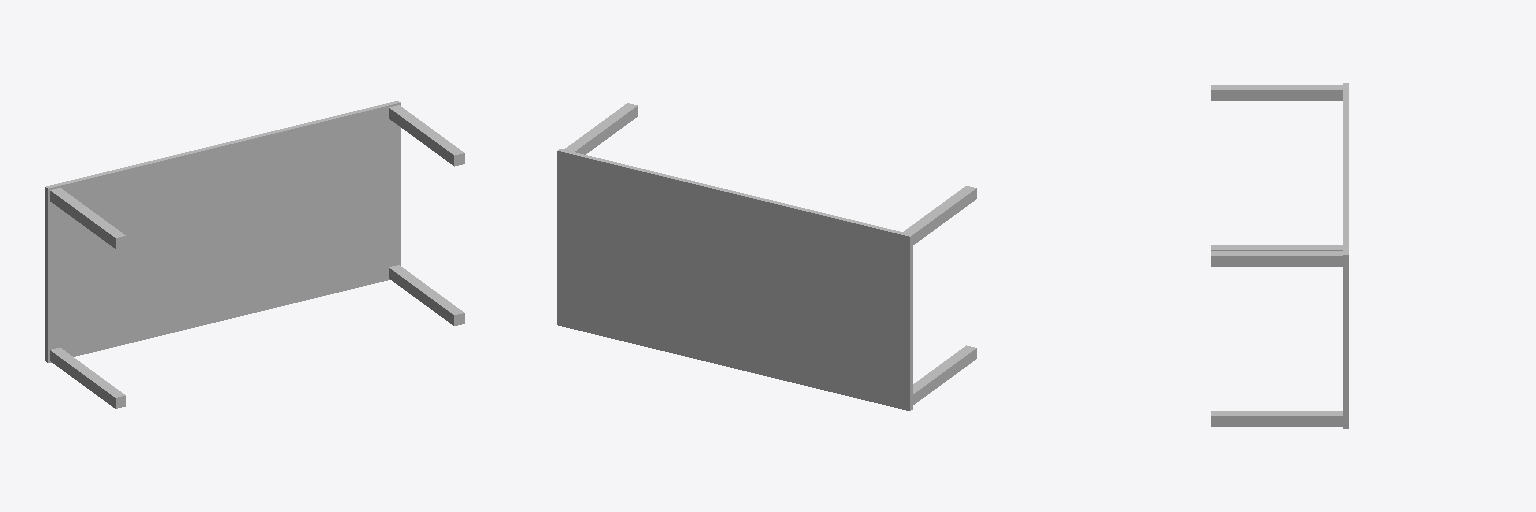
Rendered from random_table91.obj.
3 renders of one model, left to right at view 1: azimuth 30°, elevation 25°; view 2: azimuth 150°, elevation 25°; view 3: azimuth 270°, elevation 25°, orthographic.
Parts seen in each view (by area): view 1: Table_Cube.1520, TableLeg0_Cube.1521, TableLeg3_Cube.1524, TableLeg1_Cube.1522, TableLeg2_Cube.1523; view 2: Table_Cube.1520, TableLeg1_Cube.1522, TableLeg3_Cube.1524, TableLeg0_Cube.1521; view 3: TableLeg0_Cube.1521, TableLeg1_Cube.1522, TableLeg2_Cube.1523, Table_Cube.1520, TableLeg3_Cube.1524.
Boxes of the visible parts, x1=… form: Table_Cube.1520: x1=45, y1=101, x2=400, y2=362; TableLeg0_Cube.1521: x1=389, y1=105, x2=464, y2=166; TableLeg3_Cube.1524: x1=50, y1=348, x2=125, y2=408; TableLeg1_Cube.1522: x1=50, y1=188, x2=125, y2=248; TableLeg2_Cube.1523: x1=389, y1=265, x2=464, y2=325; Table_Cube.1520: x1=557, y1=149, x2=912, y2=410; TableLeg1_Cube.1522: x1=904, y1=186, x2=976, y2=244; TableLeg3_Cube.1524: x1=913, y1=345, x2=976, y2=404; TableLeg0_Cube.1521: x1=564, y1=103, x2=637, y2=154; TableLeg0_Cube.1521: x1=1211, y1=251, x2=1342, y2=266; TableLeg1_Cube.1522: x1=1211, y1=85, x2=1342, y2=100; TableLeg2_Cube.1523: x1=1211, y1=411, x2=1342, y2=426; Table_Cube.1520: x1=1343, y1=83, x2=1348, y2=428; TableLeg3_Cube.1524: x1=1211, y1=245, x2=1342, y2=250.
Size of the model in its own units: 12.21 by 5.77 by 4.11.